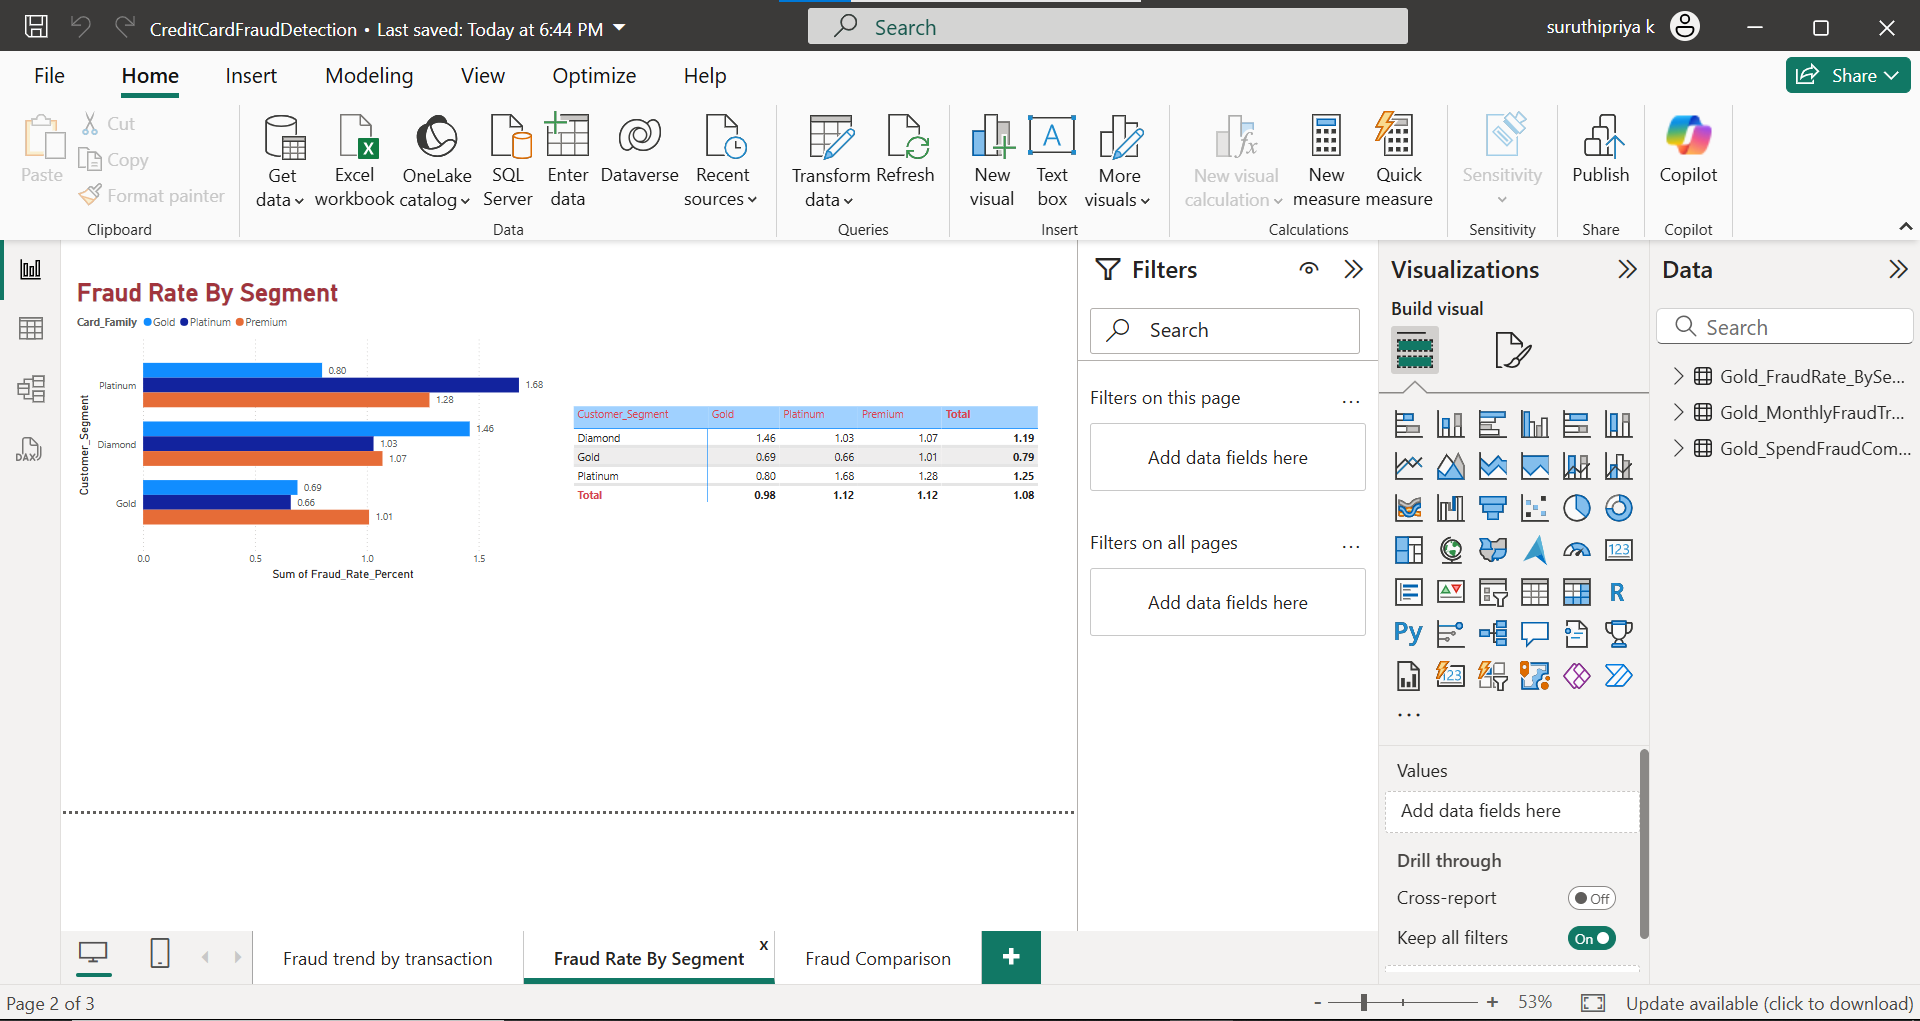

This screenshot's page, from the dashboard's own definition file:
{"tool":"powerbi","page":{"name":"Fraud Rate By Segment","canvas":[1280,720],"ordinal":1},"visuals":[{"type":"clusteredBarChart","title":"Fraud Rate By Segment","fields":{"Y":["Sum(Gold_FraudRate_BySegment.Fraud_Rate_Percent)"],"Category":["Gold_FraudRate_BySegment.Customer_Segment"],"Series":["Gold_FraudRate_BySegment.Card_Family"]},"box":[15.1,47.2,604.7,385.5],"z":0},{"type":"pivotTable","fields":{"Rows":["Gold_FraudRate_BySegment.Customer_Segment"],"Columns":["Gold_FraudRate_BySegment.Card_Family"],"Values":["Avg(Gold_FraudRate_BySegment.Fraud_Rate_Percent)"]},"box":[640.6,204.1,604.7,138],"z":1}]}

Visuals, with their boxes on the page's 1280x720 design canvas (x1, y1, x2, y2). These are canvas units, not pixel positions in the 1920x1021 screenshot, which may show the page scaled, cropped or inside an application window:
"Fraud Rate By Segment" clusteredBarChart: <bbox>15, 47, 620, 433</bbox>
pivotTable - Gold_FraudRate_BySegment.Customer_Segment x Gold_FraudRate_BySegment.Card_Family: <bbox>641, 204, 1245, 342</bbox>
